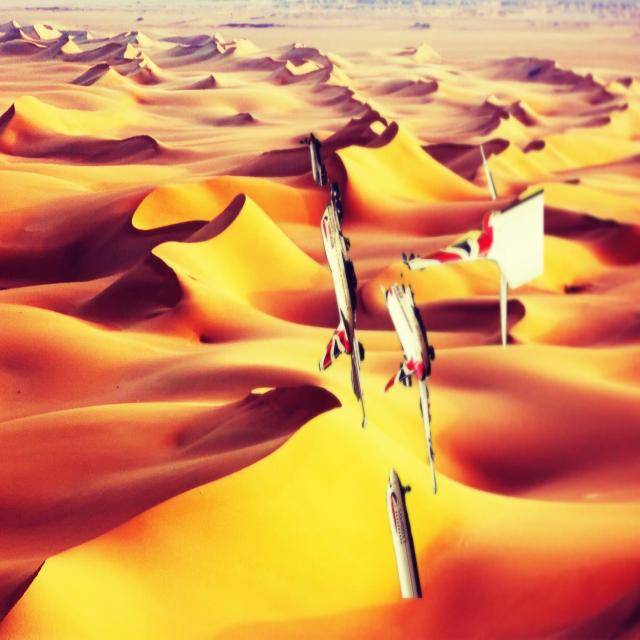airplane: (382, 142, 544, 493), (318, 197, 366, 430), (386, 468, 422, 599)
